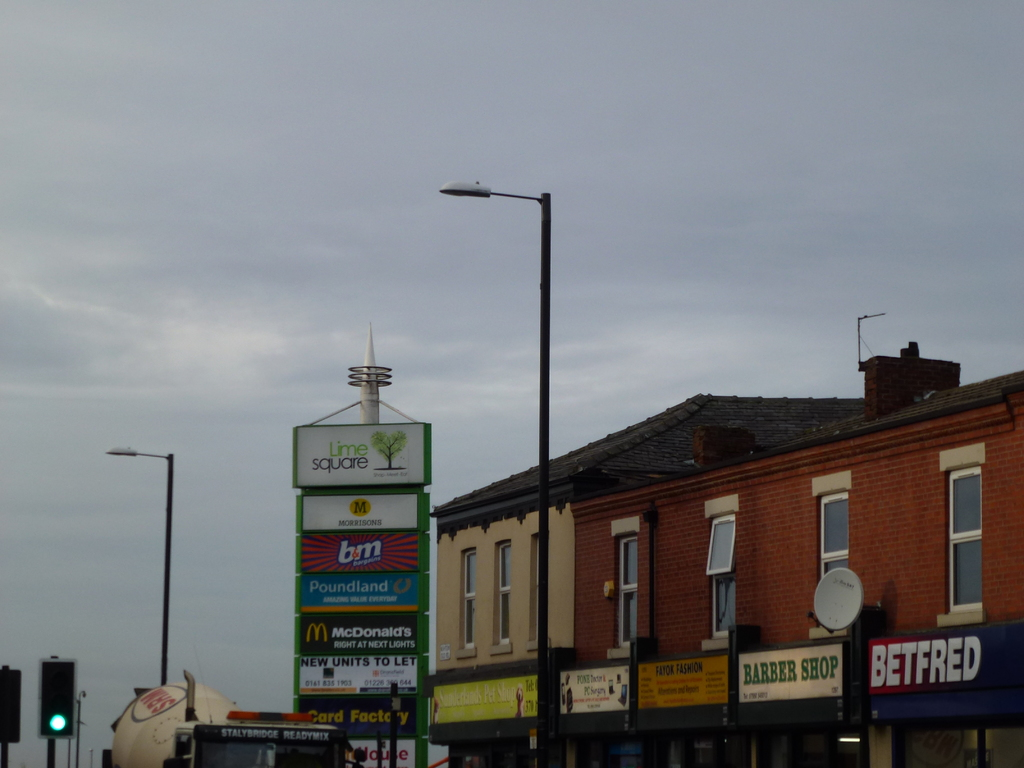signboard: (862, 635, 997, 691), (429, 677, 542, 717), (737, 656, 847, 695), (634, 662, 731, 703), (559, 673, 631, 711)
window: (937, 468, 984, 618), (704, 507, 737, 646), (617, 534, 639, 649), (818, 495, 849, 568)
